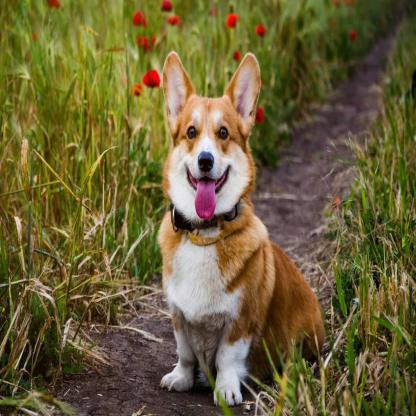Korgi: (156, 47, 328, 405)
